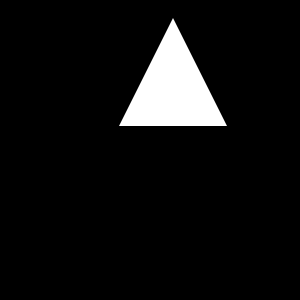triangle: (119, 18, 227, 126)
